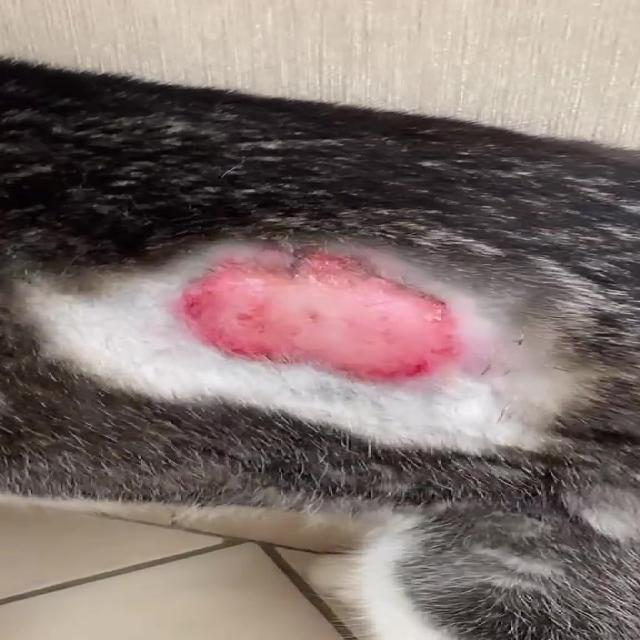hac lao: (10, 180, 607, 464)
